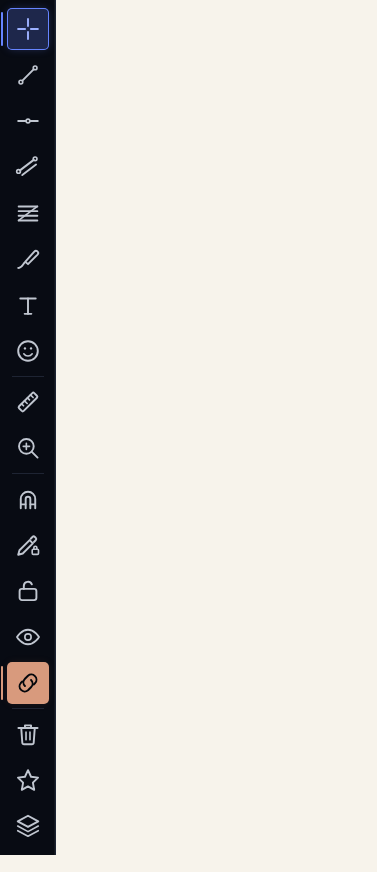
Test: drawing tool rail — §9/§10 › lists only tools the drawing engine actually implements
The width and height of the screenshot is (377, 872).
Click the button with test id "chart-tool-family-lines".
click(28, 75)  # box left=6, top=54, right=48, bottom=96
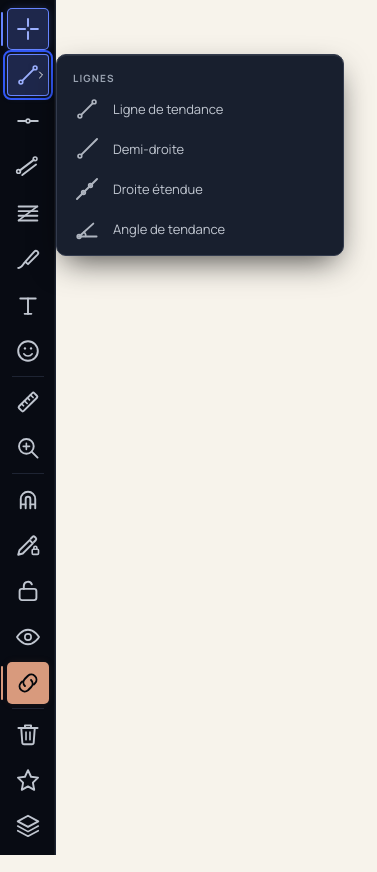
Now the menu item "Ligne de tendance" is enabled, box left=57, top=89, right=307, bottom=129
Now the menu item "Demi-droite" is enabled, box left=57, top=129, right=307, bottom=169
Now the menu item "Droite étendue" is enabled, box left=57, top=169, right=307, bottom=209
